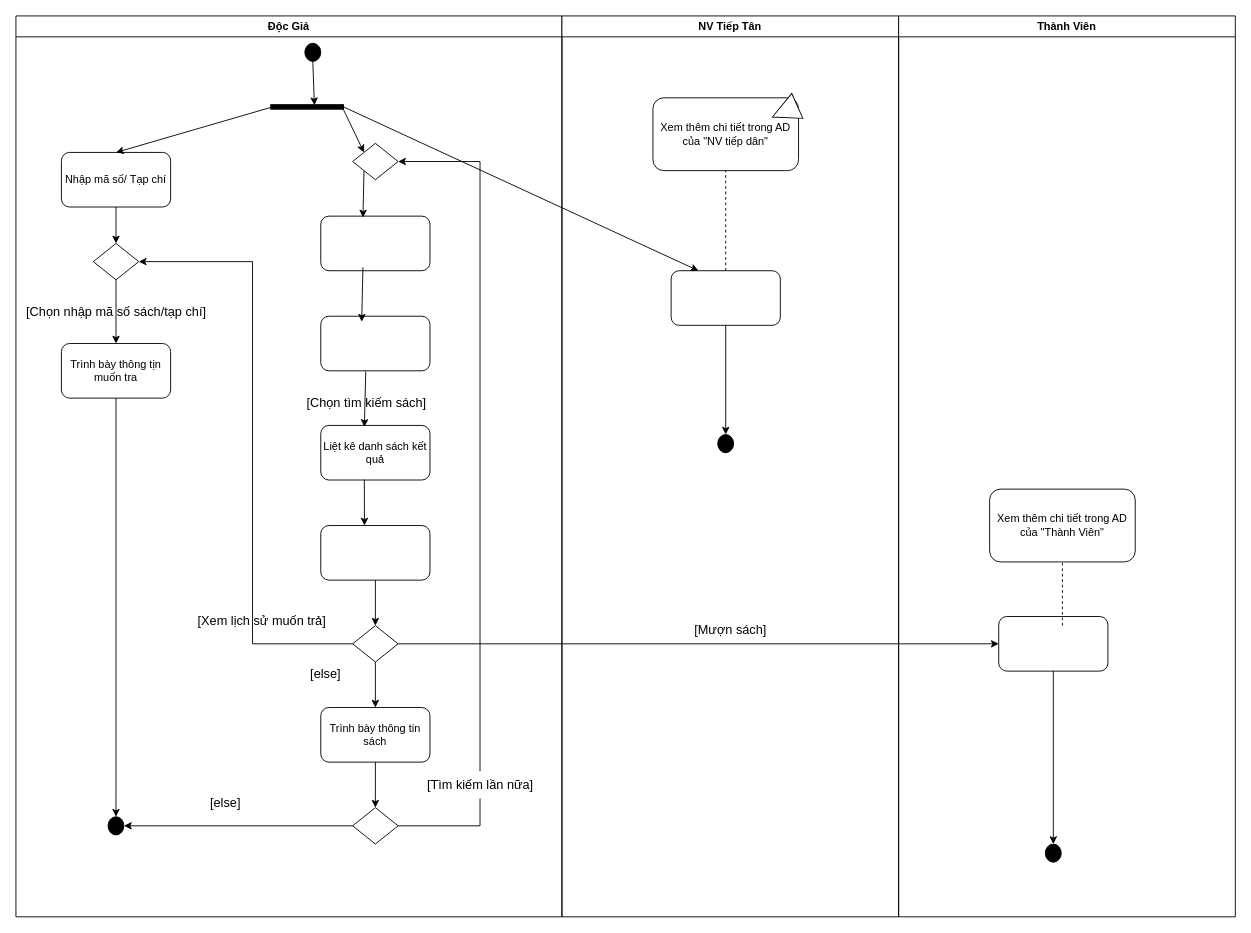
Image size: 1251x933. Some labels were removed from this diagram. Here are the shapes that lost their labels. From the top down, the centre of each, then its label:
At [375,243]: "Chọn loại tìm kiếm".
At [725,297]: "Đăng ký thành viên".
At [375,343]: "Nhập thông tin cần truyền".
At [375,552]: "Chọn 1 thành phần".
At [1053,643]: "Xử lý mượn sách".
